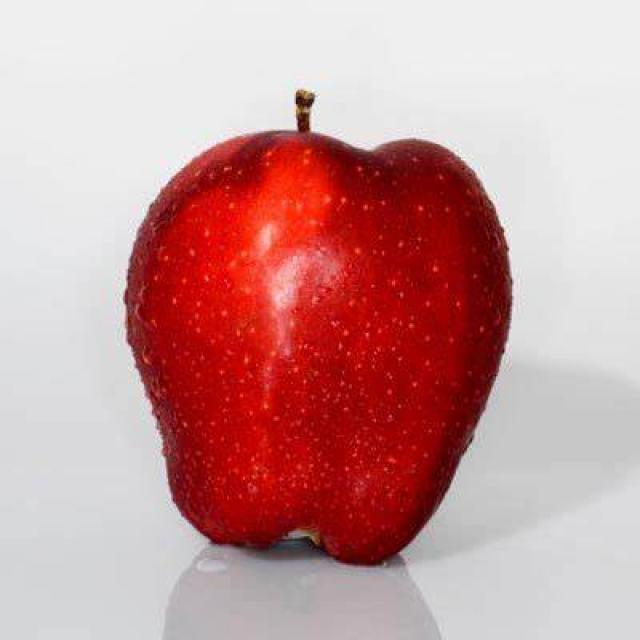Apple: (121, 83, 518, 577)
